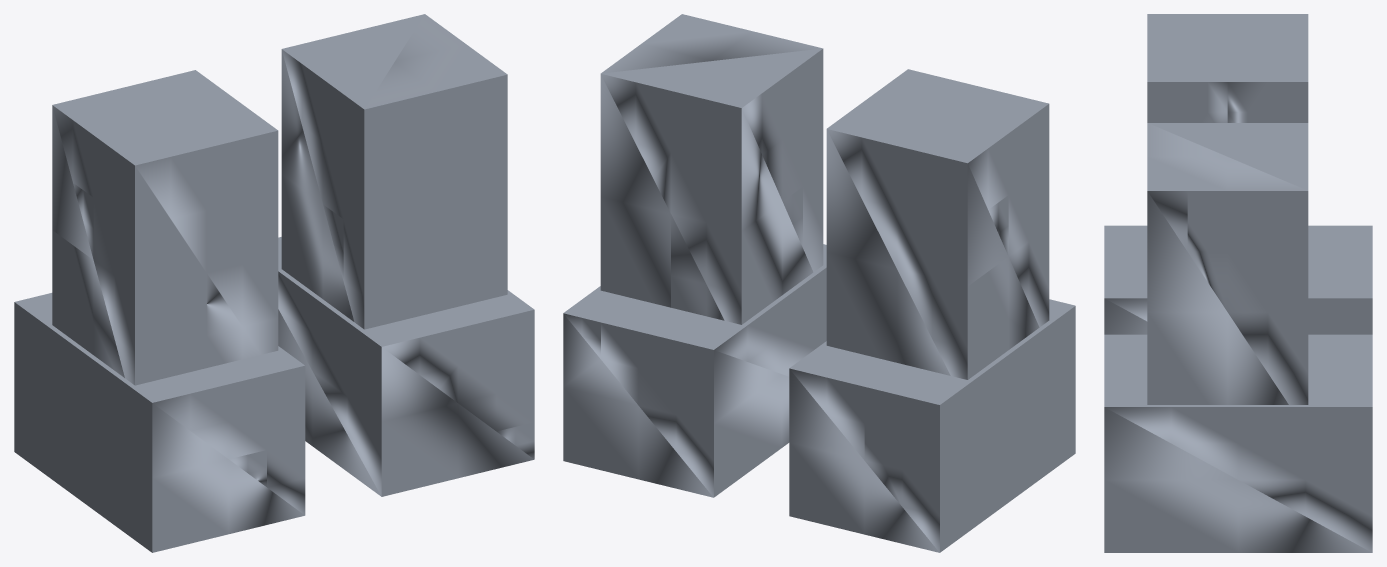
The model's file is boots.glb.
3 views of the same model, side by side, from view 1: azimuth 30°, elevation 25°; view 2: azimuth 150°, elevation 25°; view 3: azimuth 270°, elevation 25° (orthographic). The views are drawn at different scales.
Parts seen in each view (by area): view 1: BootLeft; view 2: BootLeft; view 3: BootLeft.
Boxes of the visible parts, x1,y1,x2,y2 form: BootLeft: (14,14,534,552); BootLeft: (563,14,1075,552); BootLeft: (1104,14,1372,552).
Size of the model in its own units: 0.8 by 0.74 by 0.5.
